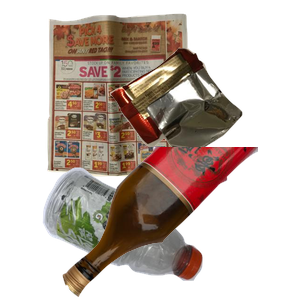glass: (60, 147, 300, 300)
paper: (44, 11, 229, 181)
plastic: (40, 165, 235, 300)
trash: (107, 46, 300, 198)
